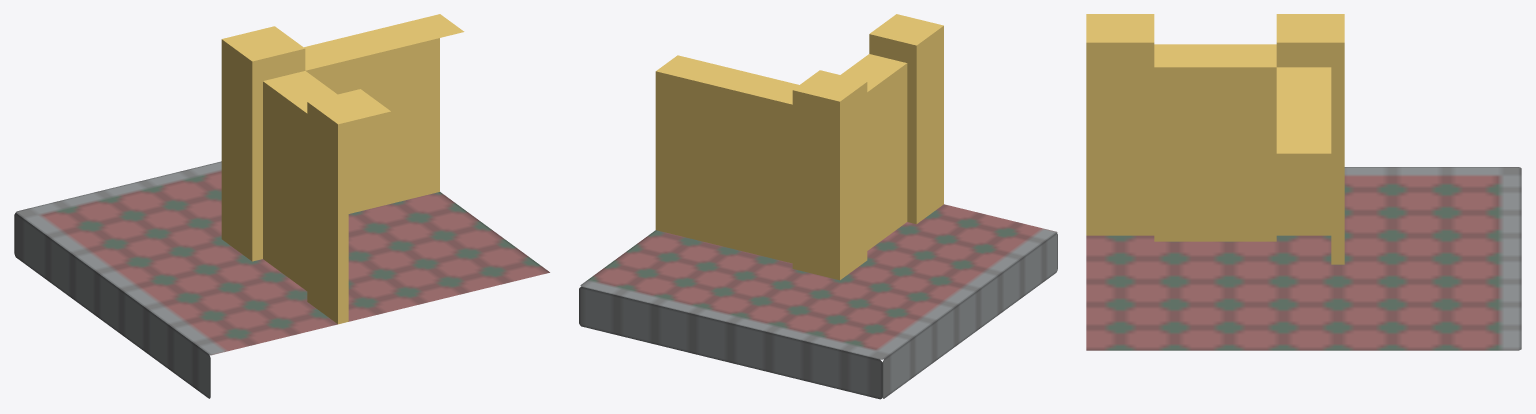
Rendered from BaseWall Cornerl.fbx.
3 views of the same model, side by side, from view 1: azimuth 30°, elevation 25°; view 2: azimuth 150°, elevation 25°; view 3: azimuth 270°, elevation 25° (orthographic). The views are drawn at different scales.
Visible parts, largest first — view 1: SideRoad, cuboid; view 2: cuboid, SideRoad; view 3: SideRoad, cuboid.
Part boxes in pixels (x1=…): SideRoad: x1=14, y1=161, x2=549, y2=398; cuboid: x1=221, y1=14, x2=464, y2=324; cuboid: x1=655, y1=14, x2=943, y2=280; SideRoad: x1=579, y1=204, x2=1057, y2=399; SideRoad: x1=1086, y1=167, x2=1521, y2=350; cuboid: x1=1086, y1=14, x2=1344, y2=264.
Size of the model in its own units: 200 by 138 by 200.
2 materials, 2 textured.
